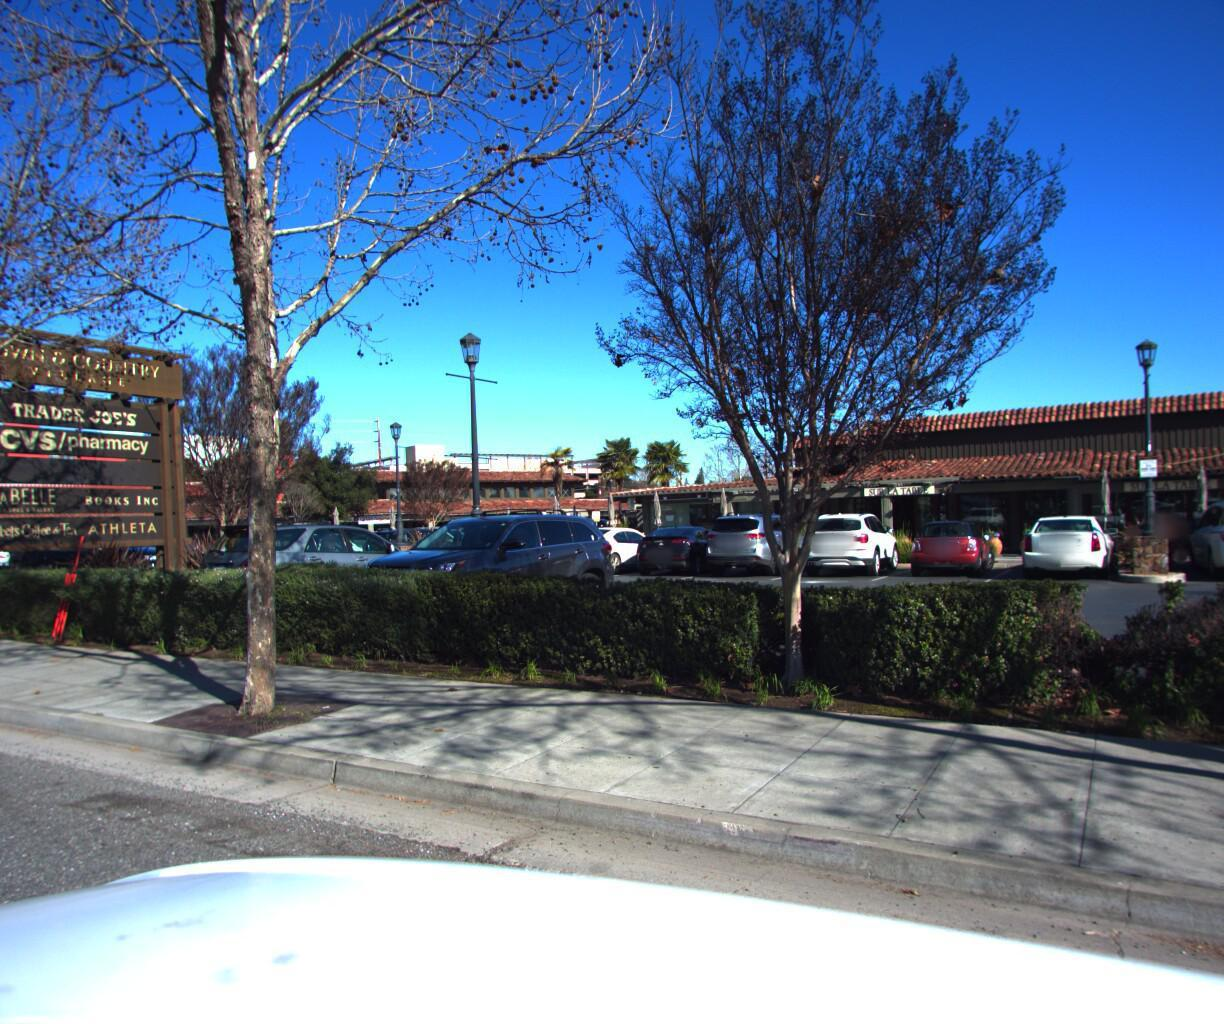car: (326, 502, 631, 638), (180, 509, 449, 618)
